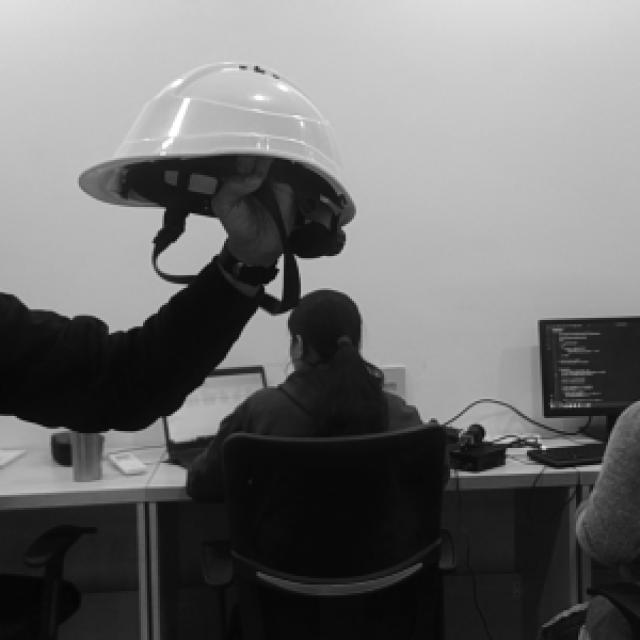safety_helmet: (77, 60, 356, 226)
